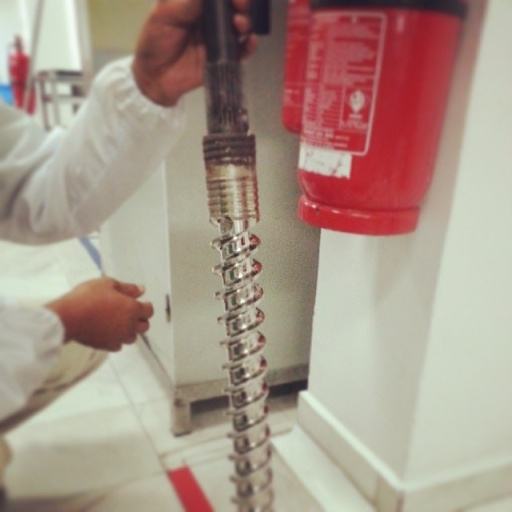hand: (137, 0, 259, 99), (48, 265, 161, 352)
